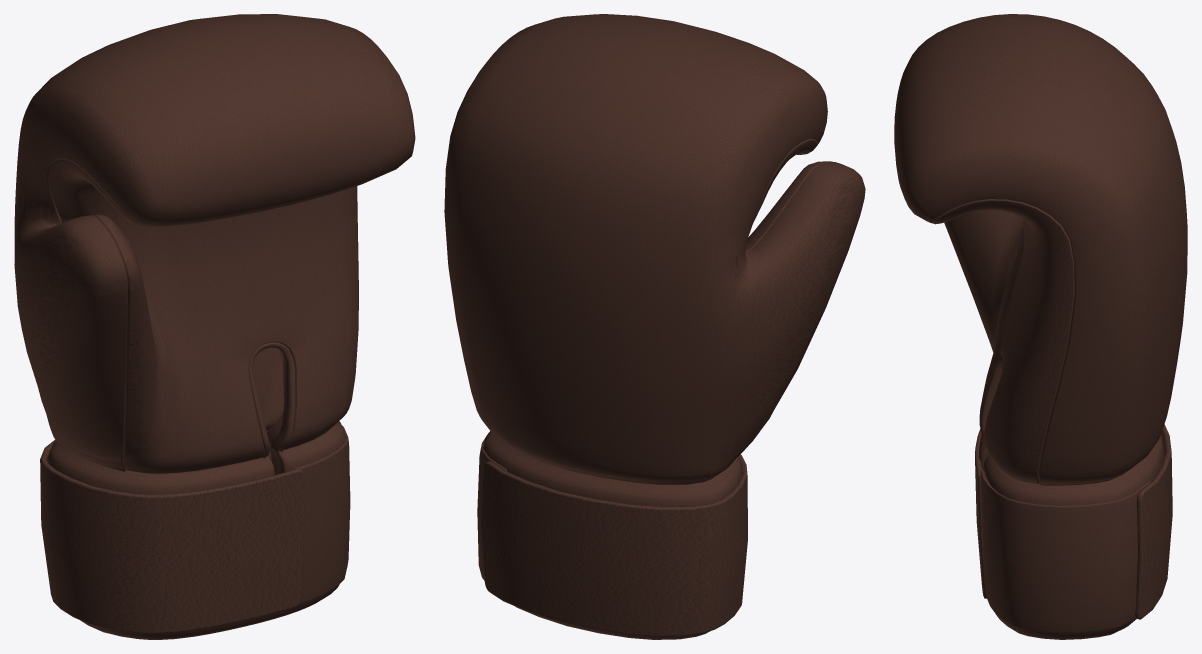
Rendered from rękawice bokserskie073.fbx.
3 views of the same model, side by side, from view 1: azimuth 30°, elevation 25°; view 2: azimuth 150°, elevation 25°; view 3: azimuth 270°, elevation 25° (orthographic). The views are drawn at different scales.
Parts seen in each view (by area): view 1: rękawice bokserskie073; view 2: rękawice bokserskie073; view 3: rękawice bokserskie073.
Part boxes in pixels (x1,y1,x2,y2): rękawice bokserskie073: (14, 14, 415, 639); rękawice bokserskie073: (444, 14, 865, 639); rękawice bokserskie073: (894, 14, 1187, 639).
Bounding box in the file's own units: 6.77 × 10.6 × 5.3.
